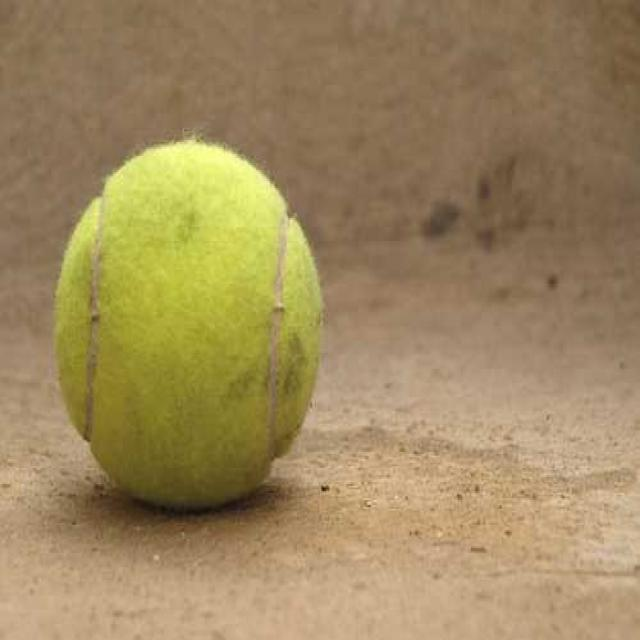Tennis_Ball: (59, 140, 323, 506)
